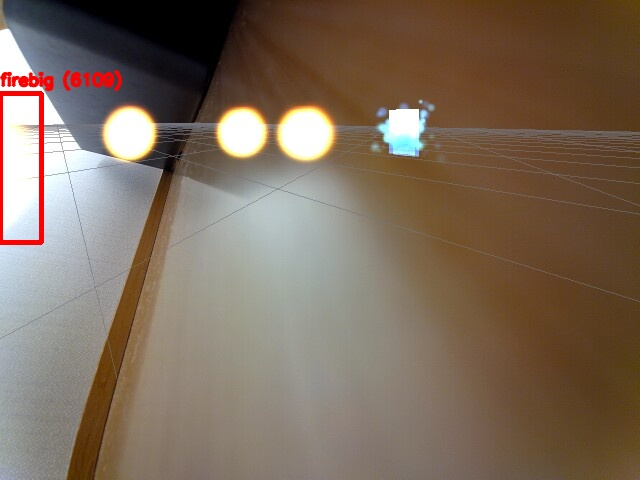firebig: (0, 93, 41, 242)
